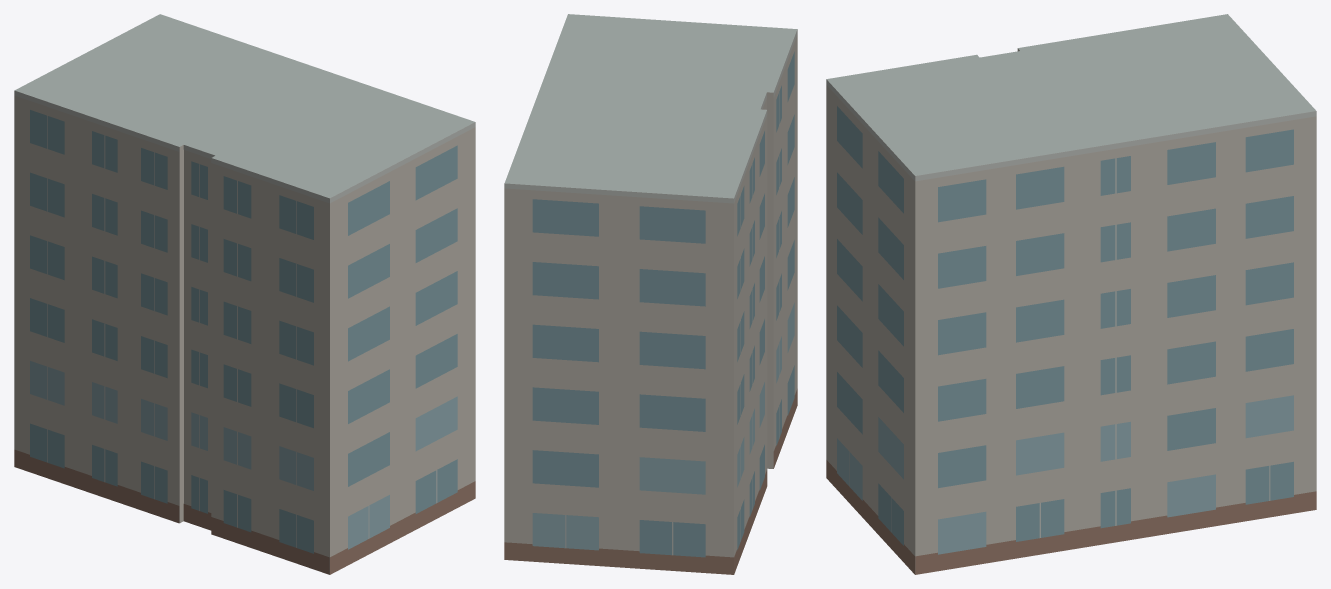
File: survey-upis-32549037.glb
The picture shows the model from 3 angles, left to right: view 1: azimuth 30°, elevation 25°; view 2: azimuth 150°, elevation 25°; view 3: azimuth 270°, elevation 25°; orthographic projection. The views are drawn at different scales.
Parts seen in each view (by area): view 1: survey-upis-32549037.tmp; view 2: survey-upis-32549037.tmp; view 3: survey-upis-32549037.tmp.
Part boxes in pixels (bbox=[...]): survey-upis-32549037.tmp: bbox=[14, 14, 475, 574]; survey-upis-32549037.tmp: bbox=[504, 14, 797, 574]; survey-upis-32549037.tmp: bbox=[826, 14, 1316, 574].
Bounding box in the file's own units: 15.96 × 18.3 × 20.4.
